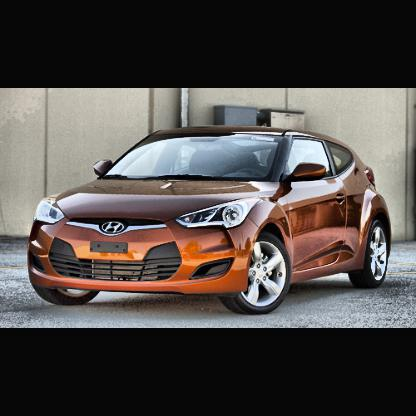Hyundai Veloster Hatchback 2012: (30, 127, 393, 315)
